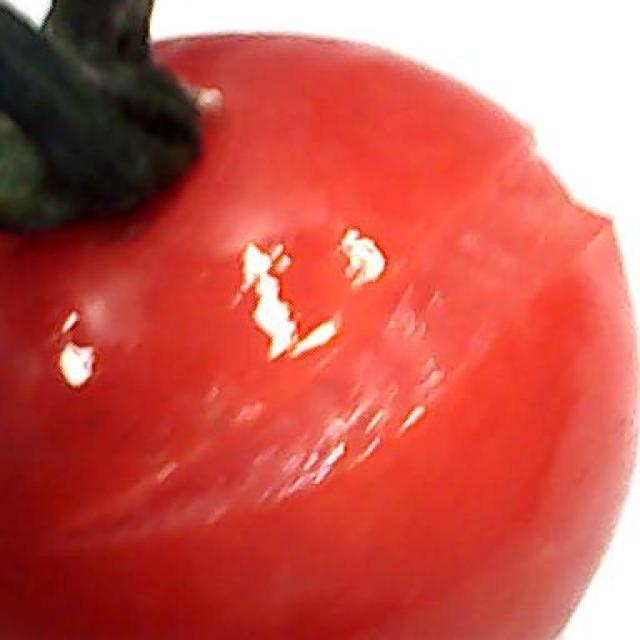Cracking Fruit: (20, 83, 422, 374)
